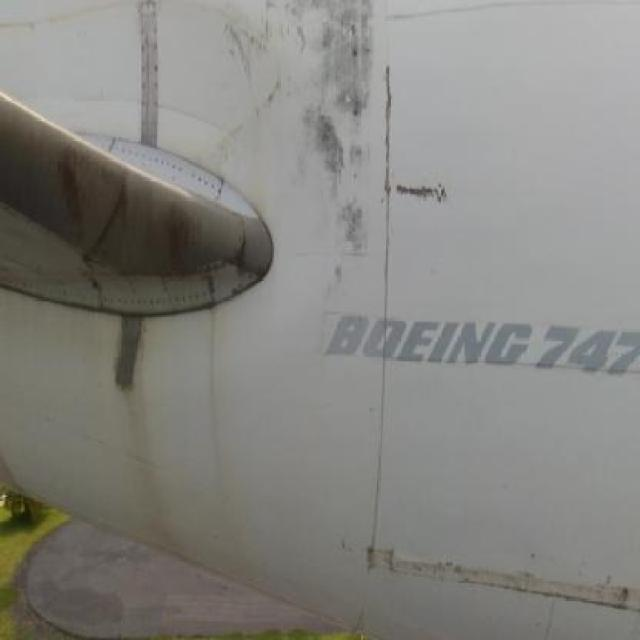Missing-Rivet: (105, 136, 223, 196), (89, 288, 225, 312), (138, 4, 162, 138)
Rust: (278, 1, 380, 274), (104, 310, 184, 547), (198, 303, 237, 515)
Scartch: (340, 528, 640, 634), (218, 2, 308, 132), (385, 61, 460, 216)
